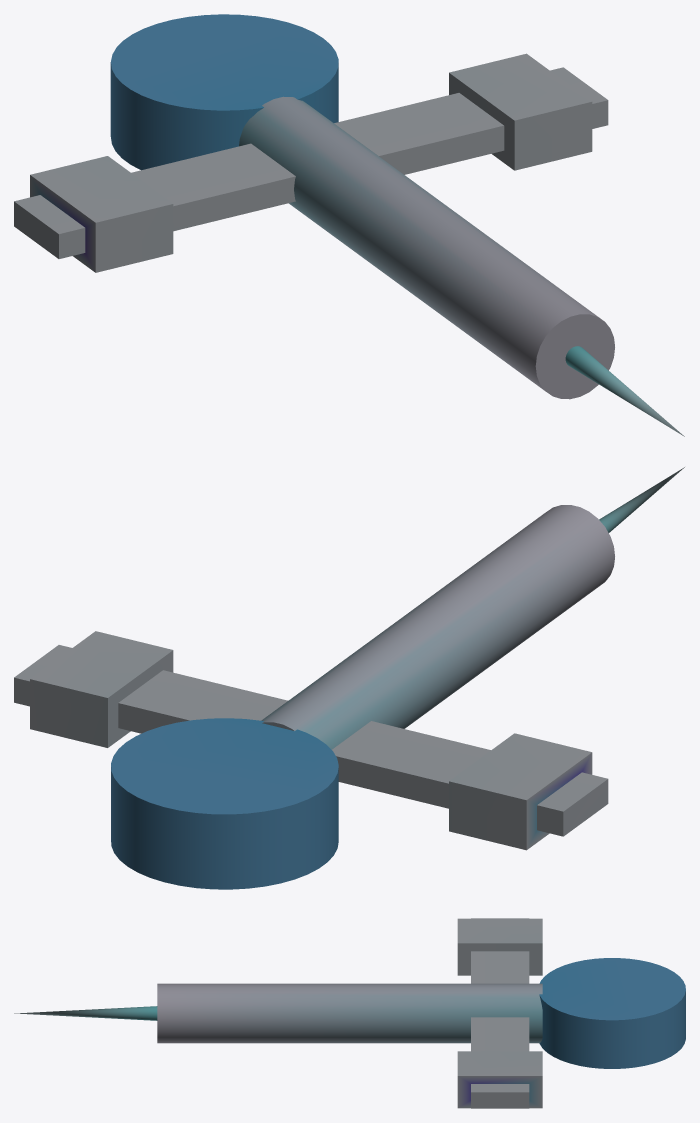
3 views of the same model, one above another, from view 1: azimuth 30°, elevation 25°; view 2: azimuth 150°, elevation 25°; view 3: azimuth 270°, elevation 25° (orthographic). The views are drawn at different scales.
Parts seen in each view (by area): view 1: body, disk, bar, shoulder.001, shoulder, tip; view 2: disk, body, bar, shoulder, shoulder.001, tip; view 3: body, disk, bar, shoulder.001, shoulder, tip.
Part boxes in pixels (<box>): body: <box>239,96,614,399</box>; disk: <box>110,14,338,170</box>; bar: <box>14,67,608,258</box>; shoulder.001: <box>30,156,173,272</box>; shoulder: <box>449,53,592,170</box>; tip: <box>565,346,684,436</box>; disk: <box>111,718,338,889</box>; body: <box>261,505,614,749</box>; bar: <box>14,645,608,836</box>; shoulder: <box>30,631,173,747</box>; shoulder.001: <box>449,733,592,850</box>; tip: <box>599,467,684,532</box>; body: <box>157,983,542,1043</box>; disk: <box>539,958,685,1068</box>; bar: <box>471,918,529,1108</box>; shoulder.001: <box>457,918,542,975</box>; shoulder: <box>457,1051,542,1108</box>; tip: <box>14,1006,157,1020</box>.
Bounding box in the file's own units: 0.0918 × 0.0132 × 0.15.
